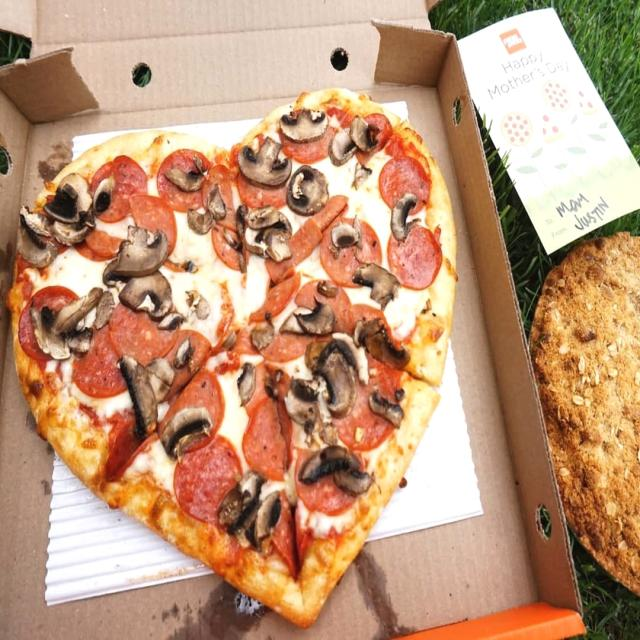mushrooms: (282, 371, 356, 439), (32, 290, 97, 360), (121, 349, 171, 435), (316, 332, 366, 410), (306, 445, 376, 496), (45, 171, 92, 245), (240, 204, 296, 262), (233, 472, 278, 539), (13, 201, 57, 268), (116, 230, 170, 282), (238, 131, 289, 184), (356, 260, 403, 316), (120, 268, 176, 314), (163, 402, 212, 452), (329, 119, 378, 164), (288, 165, 330, 217), (162, 155, 211, 193), (369, 387, 407, 432), (282, 105, 328, 141), (298, 296, 335, 336), (388, 189, 414, 243), (331, 208, 362, 253), (195, 191, 227, 233), (236, 358, 258, 402), (167, 336, 194, 367), (157, 310, 183, 330)
pepperoni: (174, 436, 239, 518), (109, 297, 176, 363), (160, 366, 228, 431), (245, 399, 294, 479), (20, 286, 72, 360), (78, 324, 130, 398), (325, 217, 384, 282), (385, 220, 440, 288), (128, 187, 179, 259), (157, 147, 210, 211), (90, 157, 144, 218), (378, 158, 434, 216), (294, 450, 347, 511), (276, 121, 334, 166), (108, 426, 158, 478), (335, 408, 397, 445), (254, 262, 296, 312), (236, 173, 286, 208), (256, 331, 312, 357), (78, 231, 124, 260), (366, 110, 394, 146), (316, 192, 342, 224), (292, 222, 318, 253)
pizza: (8, 89, 458, 631)
